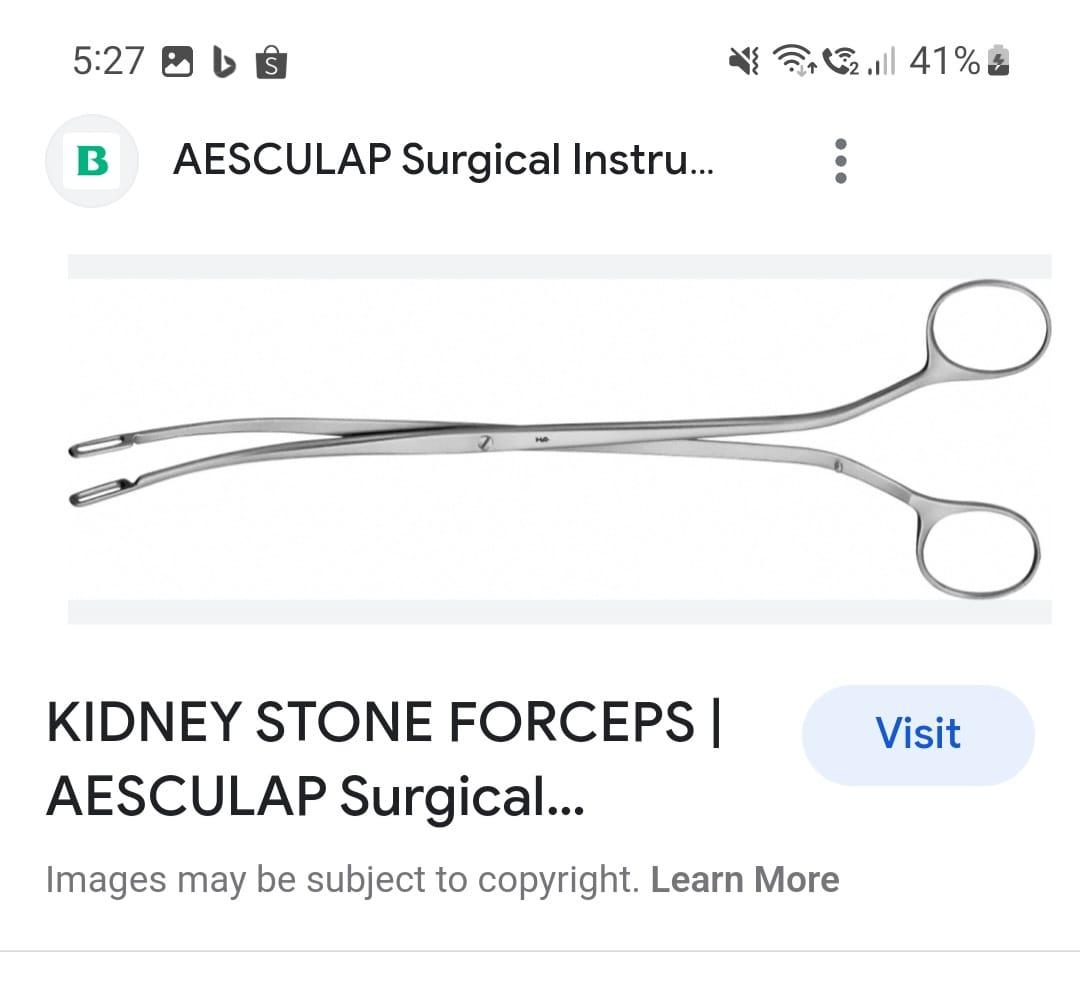Desjardin Forceps: (61, 277, 1056, 610)
